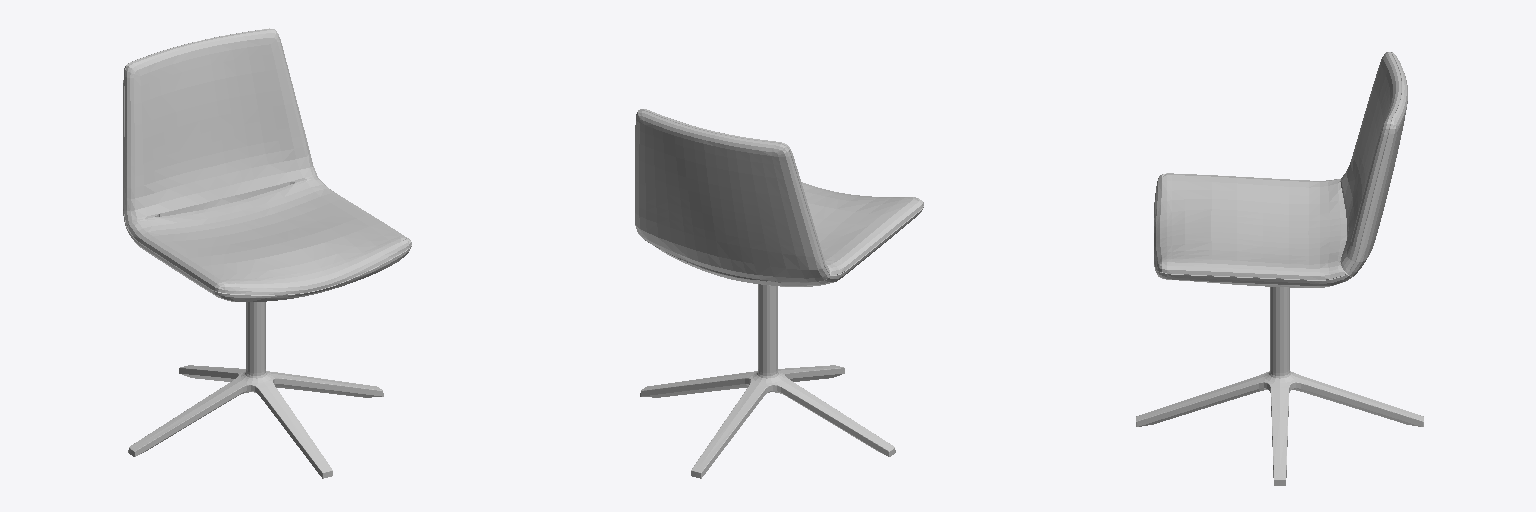
Rendered from chair.obj.
The picture shows the model from 3 angles: view 1: azimuth 30°, elevation 25°; view 2: azimuth 150°, elevation 25°; view 3: azimuth 270°, elevation 25°; orthographic projection.
Visible parts, largest first — view 1: CS48_4.lwo; view 2: CS48_4.lwo; view 3: CS48_4.lwo.
Boxes of the visible parts, box(x1,y1,x2,y2) form: CS48_4.lwo: box(123, 28, 411, 478); CS48_4.lwo: box(635, 109, 923, 478); CS48_4.lwo: box(1136, 52, 1423, 485).
Bounding box in the file's own units: 0.6002 × 0.7816 × 0.6002.